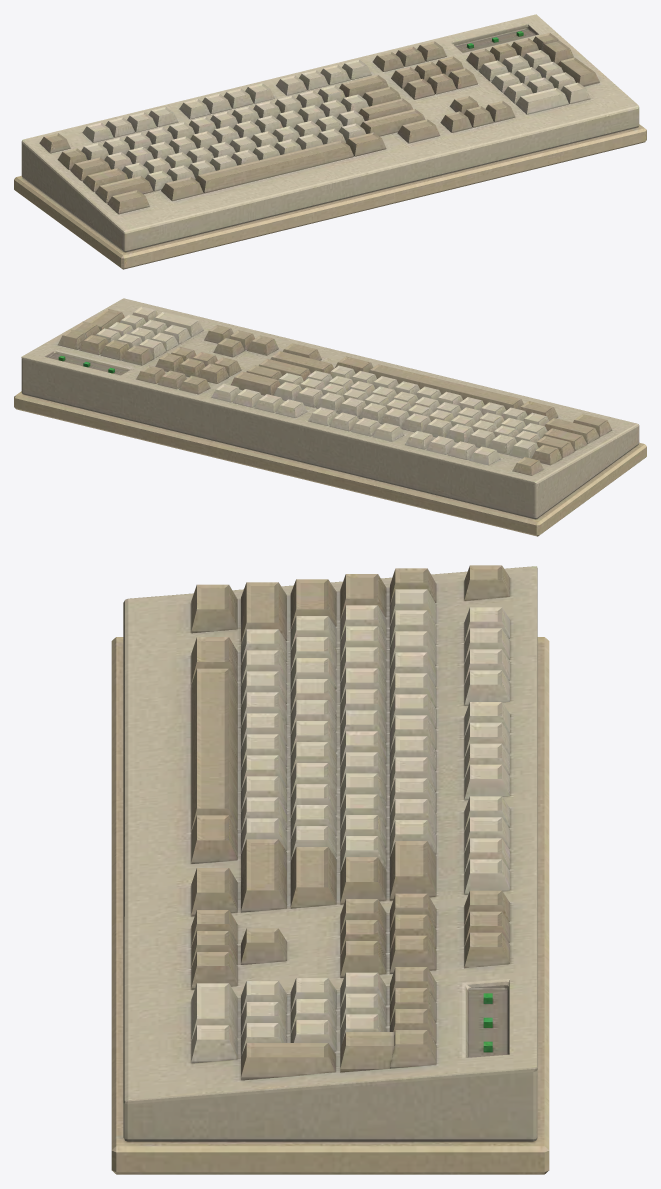
The model's file is keyboard-b.glb.
3 renders of one model, top to bottom at view 1: azimuth 30°, elevation 25°; view 2: azimuth 150°, elevation 25°; view 3: azimuth 270°, elevation 25°, orthographic. The views are drawn at different scales.
Visible parts, largest first — view 1: case-baked; view 2: case-baked; view 3: case-baked.
Part boxes in pixels (left/top/right/bottom): case-baked: left=14, top=14, right=646, bottom=269; case-baked: left=14, top=298, right=646, bottom=536; case-baked: left=111, top=565, right=549, bottom=1174.
Bounding box in the file's own units: 0.466 × 0.0493 × 0.168.
1 material, 1 textured.
